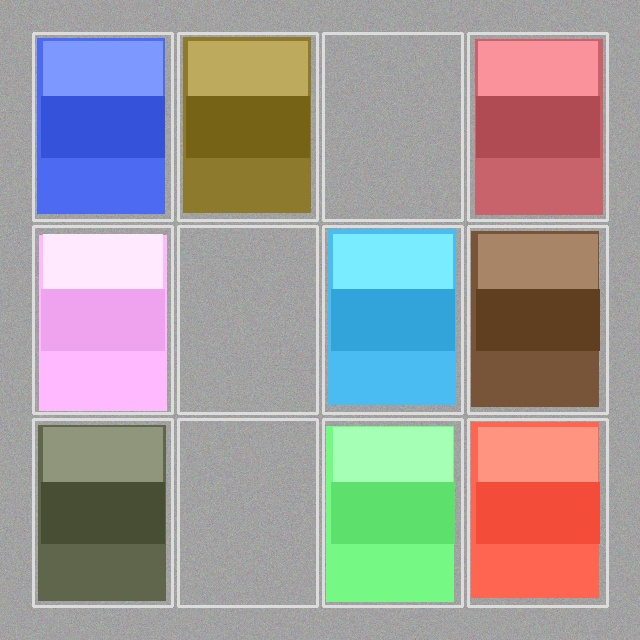space-empty: (325, 35, 460, 218), (180, 228, 315, 411), (180, 421, 315, 604)
space-occupied: (35, 35, 170, 218), (180, 35, 315, 218), (470, 35, 605, 218), (35, 228, 170, 411), (325, 228, 460, 411), (470, 228, 605, 411), (35, 421, 170, 604), (325, 421, 460, 604), (470, 421, 605, 604)
